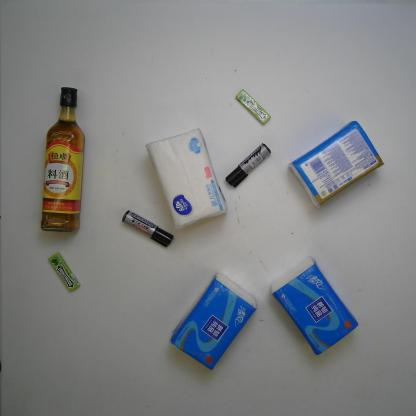Gum: (48, 252, 80, 293), (235, 89, 271, 124)
Seasoner: (38, 87, 86, 232)
Stationery: (226, 143, 272, 188), (121, 209, 173, 248)
Tissue: (171, 274, 259, 372), (270, 260, 359, 356), (144, 129, 229, 229), (288, 121, 384, 207)
